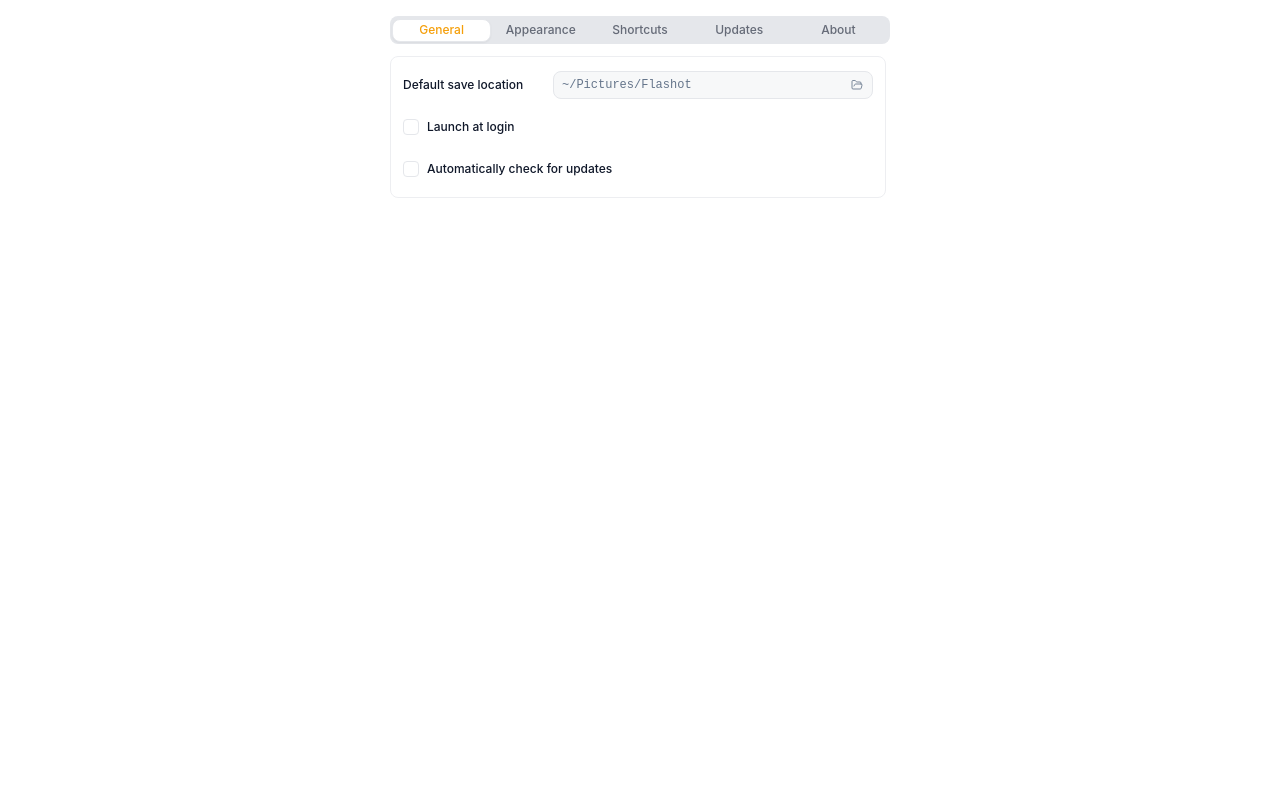
SettingsRoute › groups utility content into one Flashot window with compact bordered shadcn tabs
Check: the tab "General" is shown, box x1=392 y1=18 x2=491 y2=42
Check: the tab "Appearance" is shown, box x1=491 y1=18 x2=590 y2=42
Click the tab "Shortcuts": (640, 30) x1=590 y1=18 x2=690 y2=42
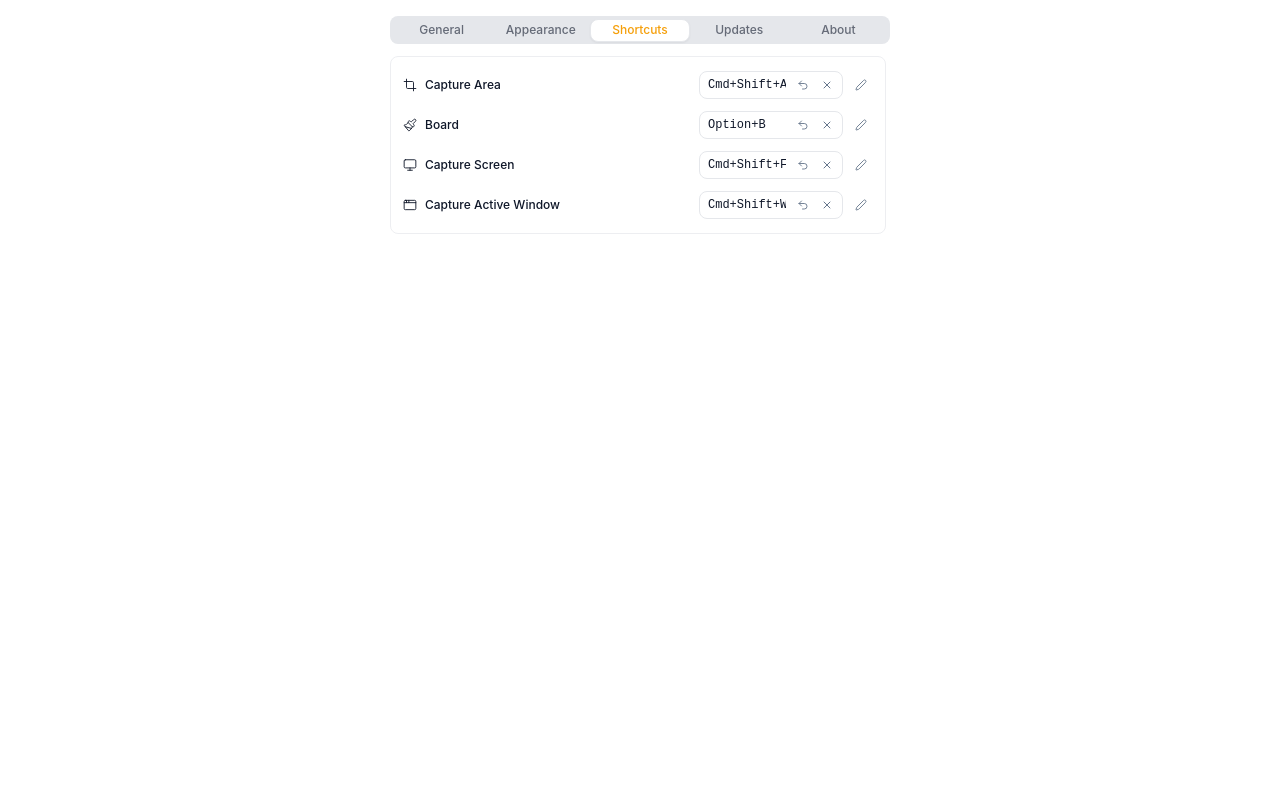
Check: the text "Capture Area" is shown, box x1=425 y1=77 x2=501 y2=93
